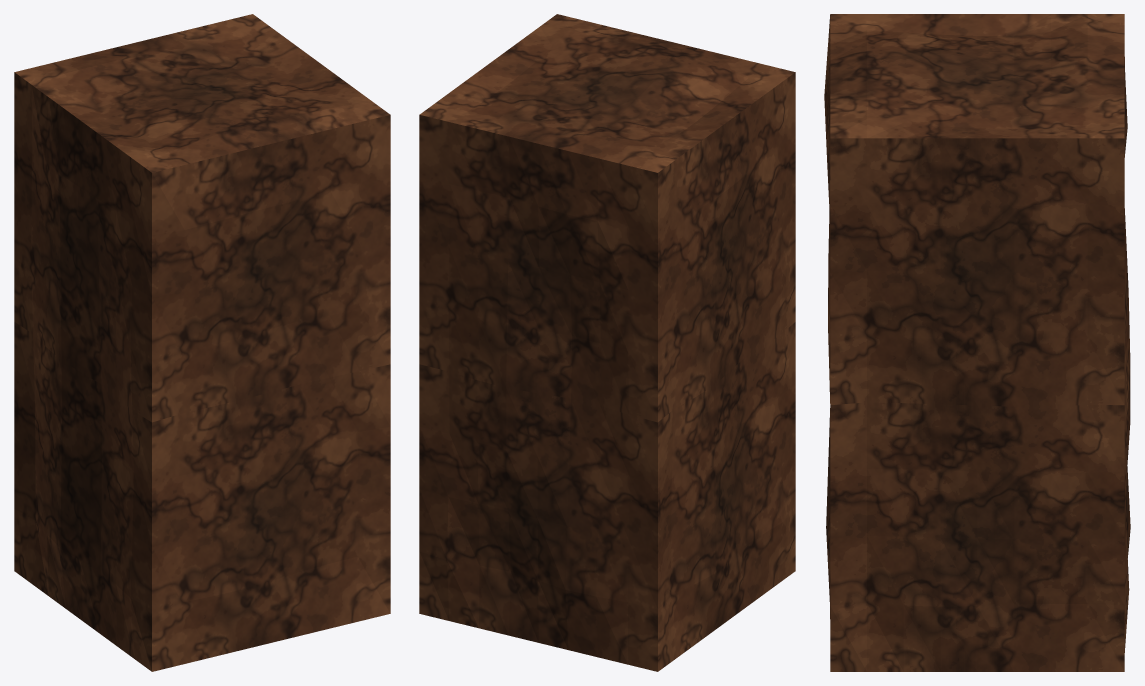
File: dungeon_wall_block.obj
3 views of the same model, side by side, from view 1: azimuth 30°, elevation 25°; view 2: azimuth 150°, elevation 25°; view 3: azimuth 270°, elevation 25° (orthographic). The views are drawn at different scales.
Size of the model in its own units: 1.04 by 2.03 by 1.04.
1 material, 1 textured.
